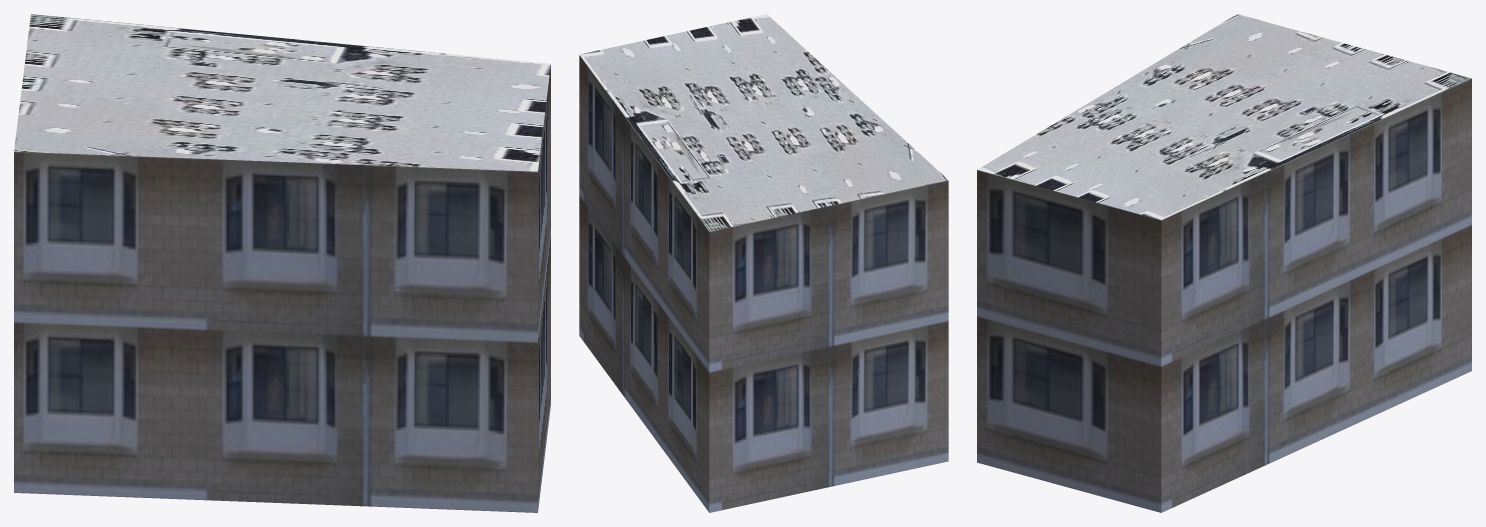
The model's file is ResTex__550.fbx.
3 views of the same model, side by side, from view 1: azimuth 30°, elevation 25°; view 2: azimuth 150°, elevation 25°; view 3: azimuth 270°, elevation 25° (orthographic). The views are drawn at different scales.
Visible parts, largest first — view 1: CityEngineMaterial_3_m, CityEngineMaterial_m; view 2: CityEngineMaterial_3_m, CityEngineMaterial_m; view 3: CityEngineMaterial_3_m, CityEngineMaterial_m.
Boxes of the visible parts, box(x1,y1,x2,y2) form: CityEngineMaterial_3_m: box(14, 65, 550, 512); CityEngineMaterial_m: box(14, 14, 550, 171); CityEngineMaterial_3_m: box(579, 55, 948, 512); CityEngineMaterial_m: box(579, 14, 948, 231); CityEngineMaterial_3_m: box(977, 78, 1471, 512); CityEngineMaterial_m: box(977, 14, 1471, 220).
Size of the model in its own units: 9.07 by 6 by 9.19.
Materials: 2 (2 with a texture image).
